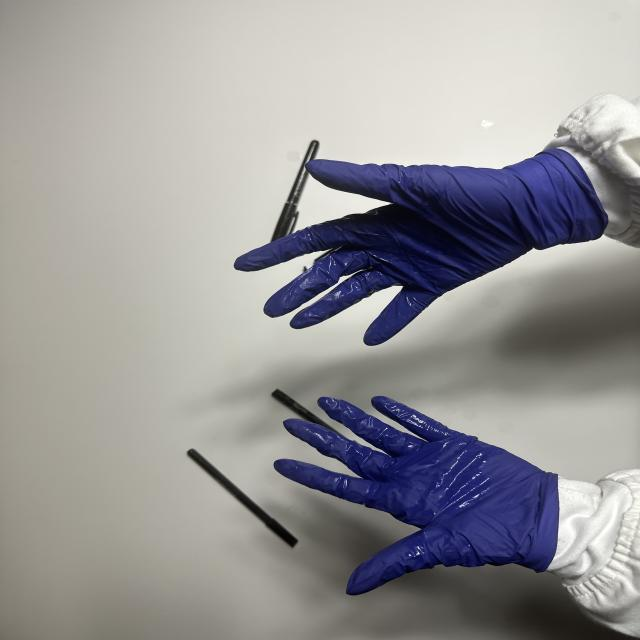gloves_contaminated: (234, 150, 607, 345), (274, 396, 558, 594)
